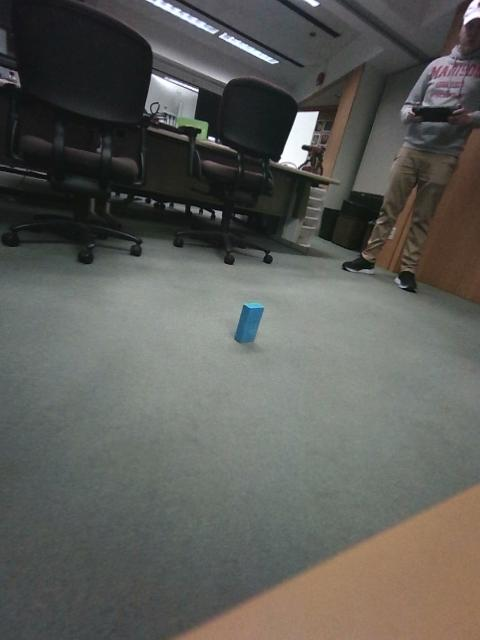block: (1, 432, 75, 545)
